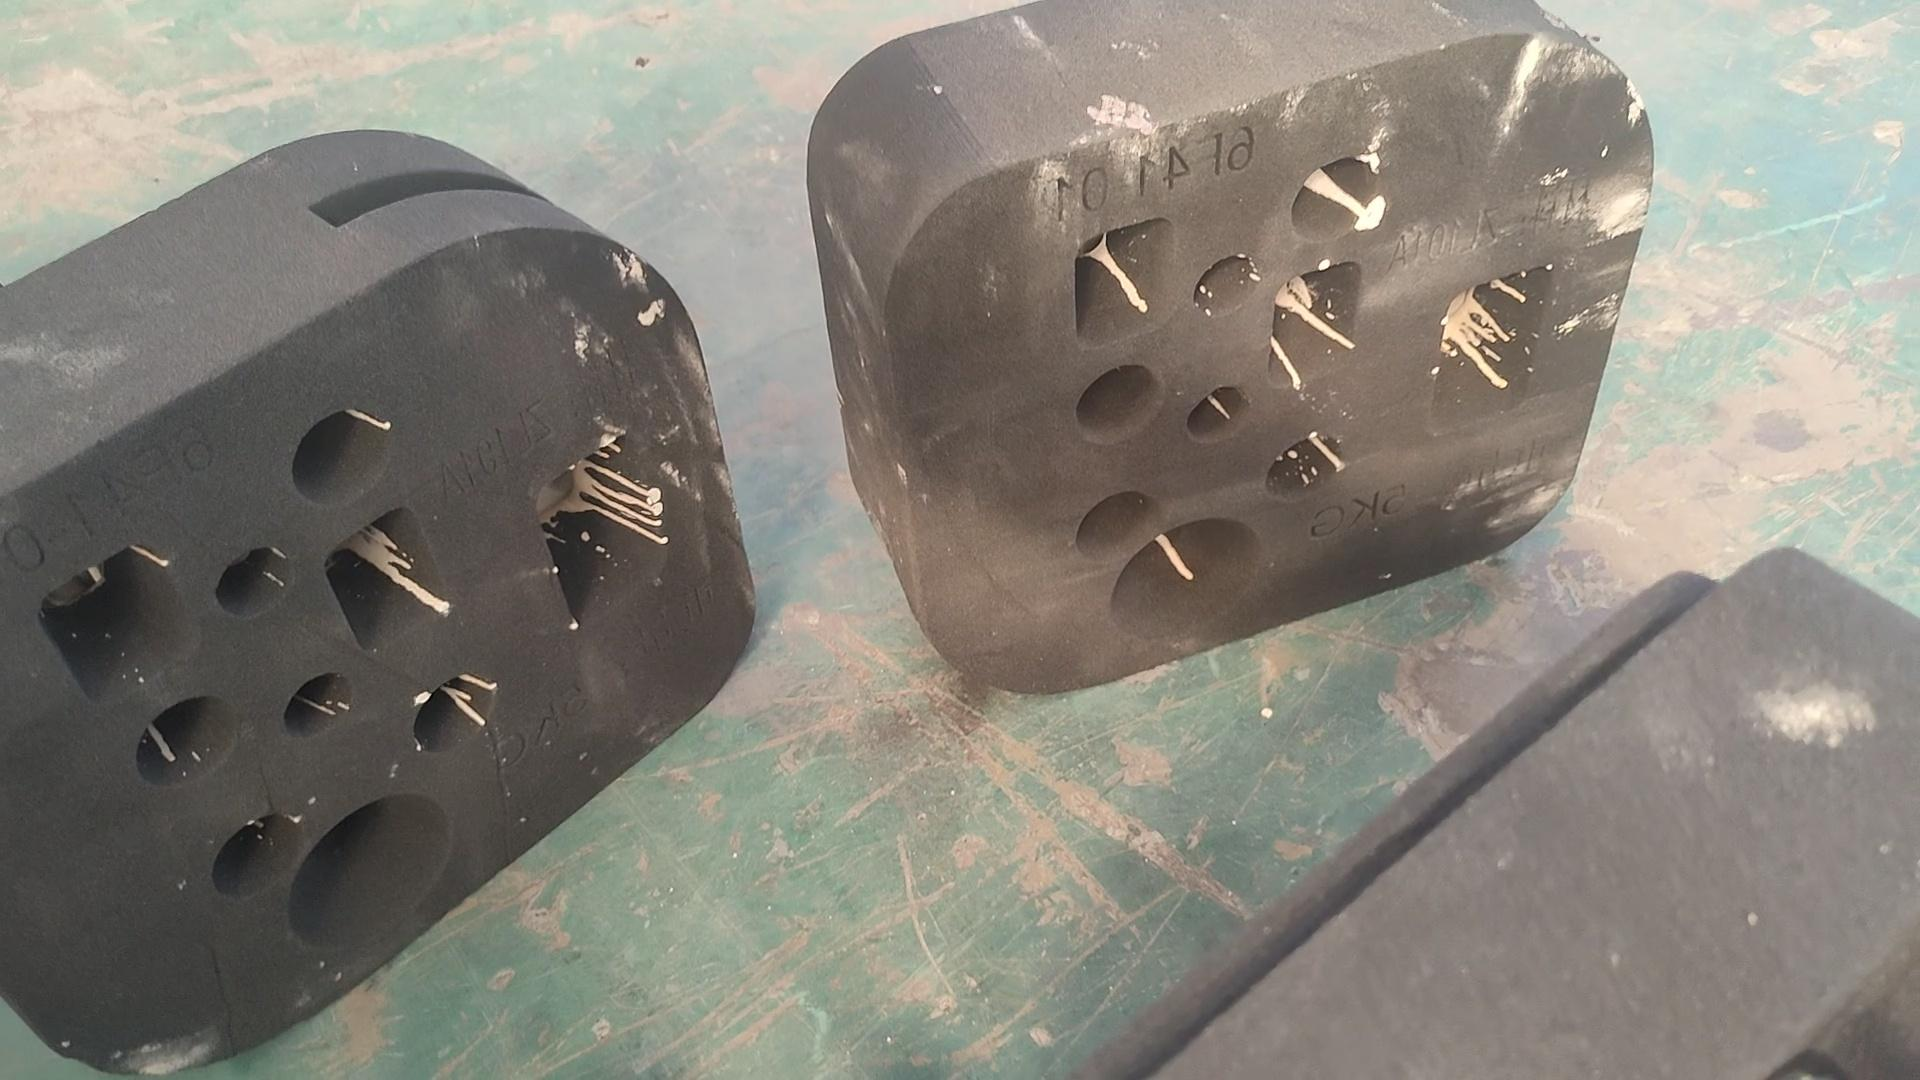pouring hole: (287, 793, 454, 957), (1109, 517, 1267, 649)
